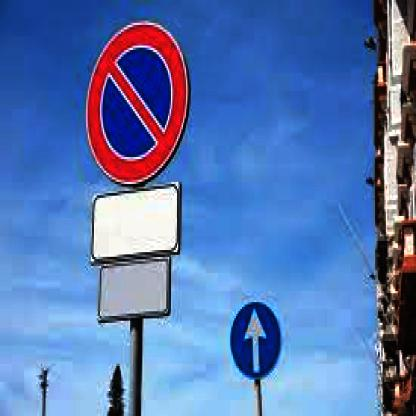No parking: (83, 18, 190, 182)
